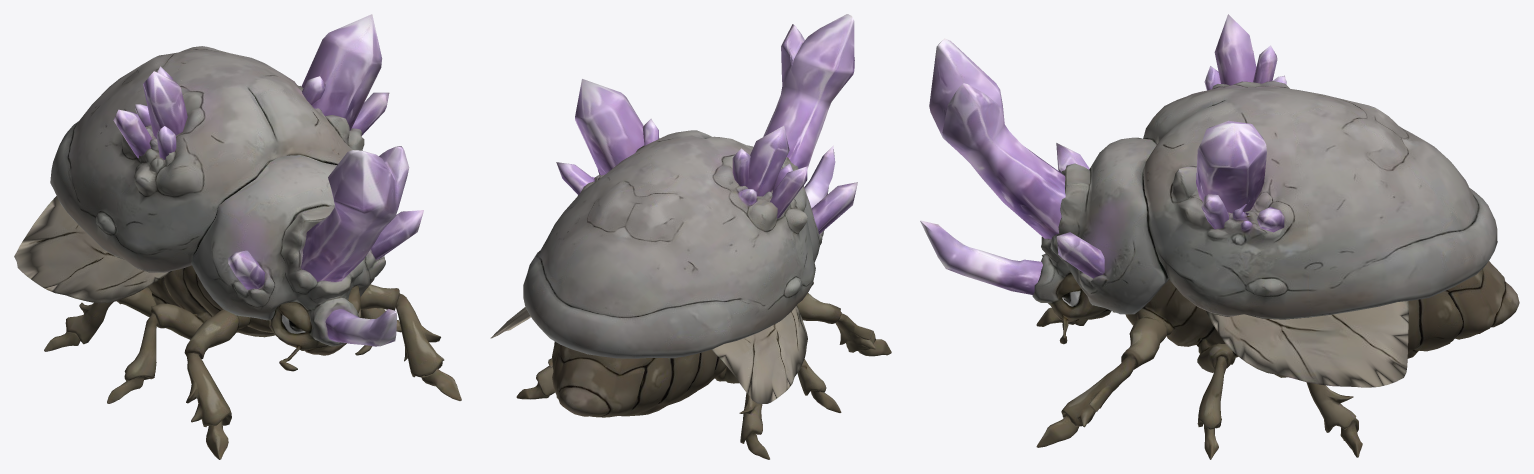
The picture shows the model from 3 angles, left to right: view 1: azimuth 30°, elevation 25°; view 2: azimuth 150°, elevation 25°; view 3: azimuth 270°, elevation 25°; orthographic projection. The views are drawn at different scales.
Parts seen in each view (by area): view 1: geometry_0; view 2: geometry_0; view 3: geometry_0.
Boxes of the visible parts, x1=… form: geometry_0: x1=14, y1=14, x2=461, y2=459; geometry_0: x1=490, y1=14, x2=891, y2=459; geometry_0: x1=920, y1=14, x2=1519, y2=459.
Size of the model in its own units: 0.5786 by 0.584 by 0.9536.
Materials: 1 (1 with a texture image).
